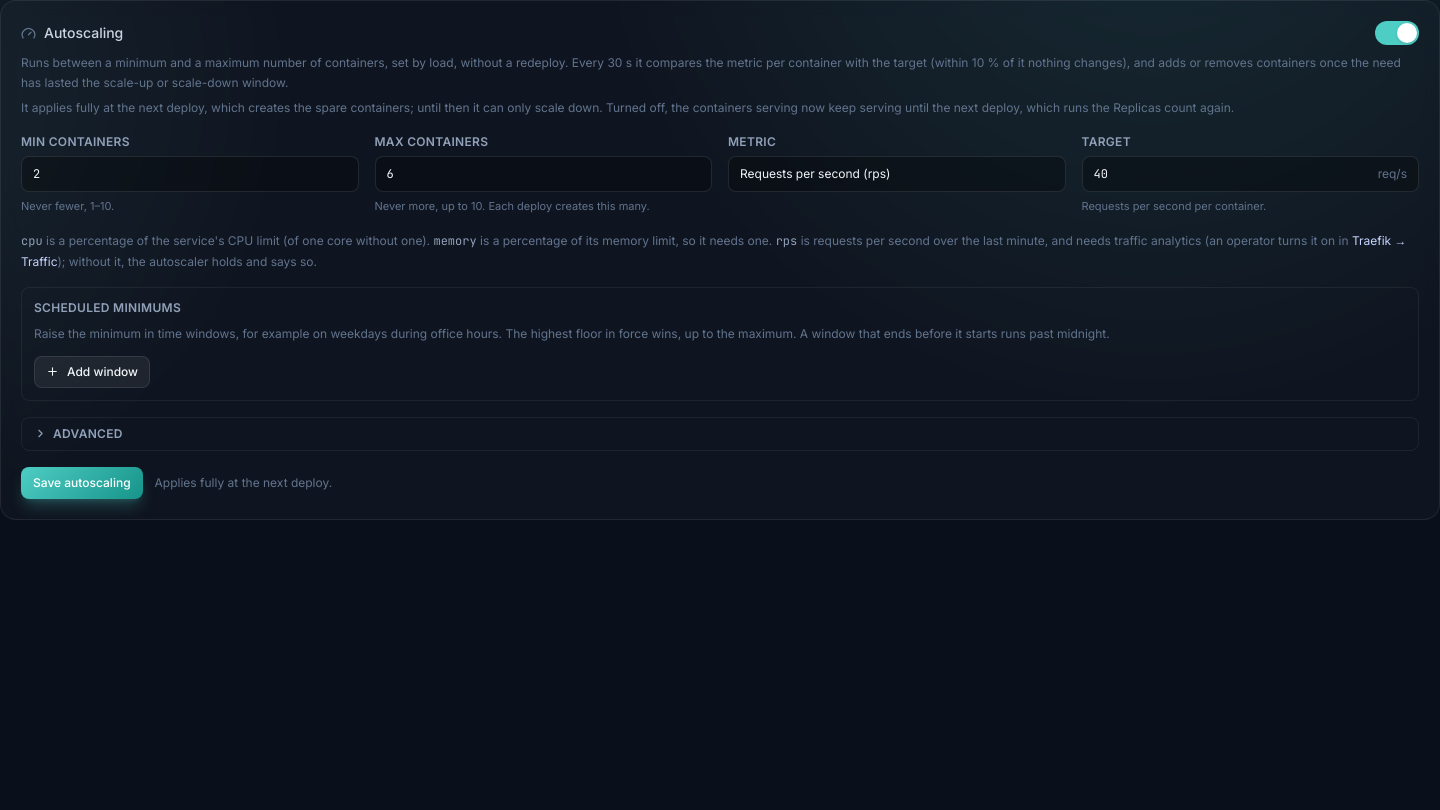
it: AutoscaleCard scheduled minimums (G5.6) › names an unknown time zone and refuses to save it
Click the button "Add window" at (92, 372), box [34,356,150,388]
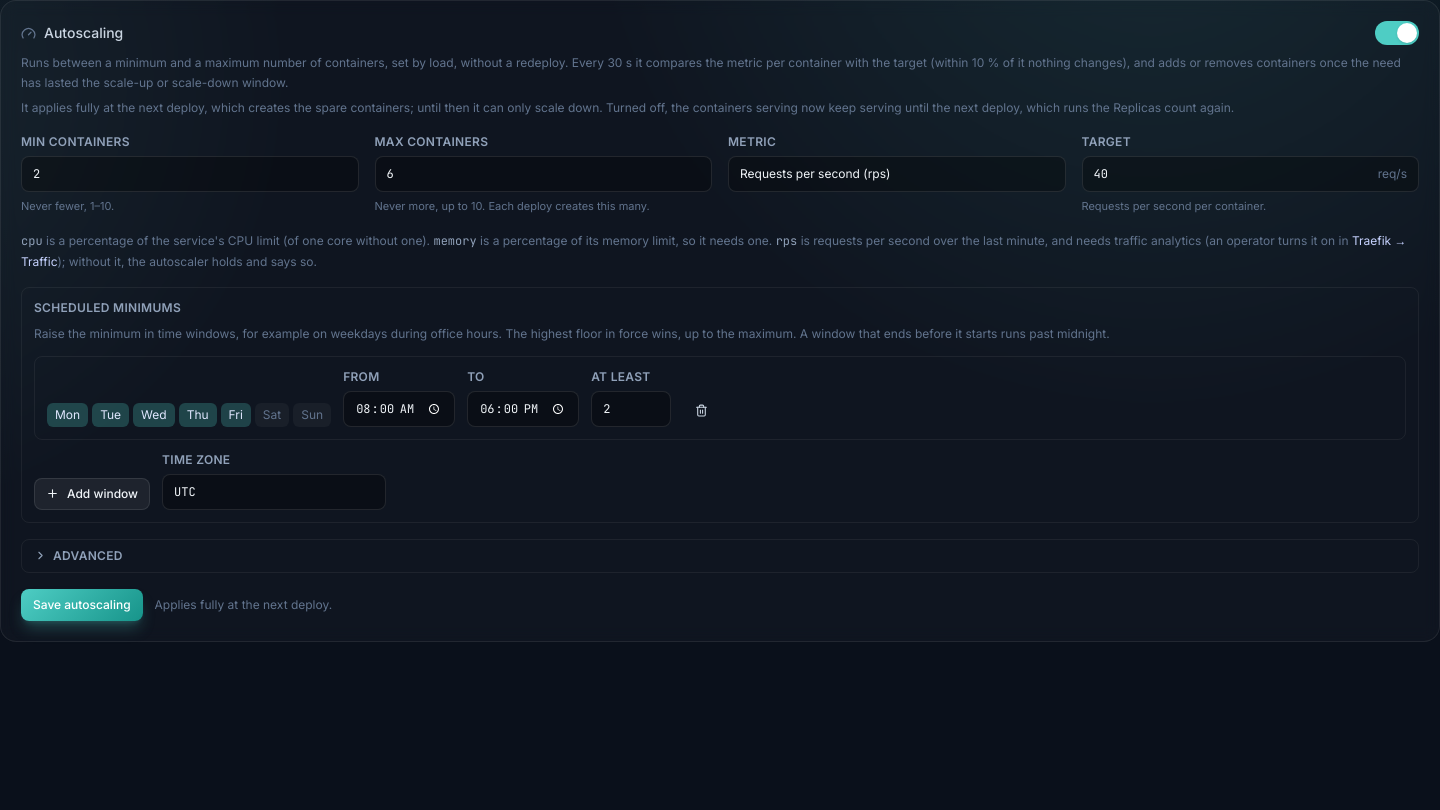
Replace the text in the field labelled "Time zone" with "Mars/Olympus" at (274, 492), box [162,474,386,510]
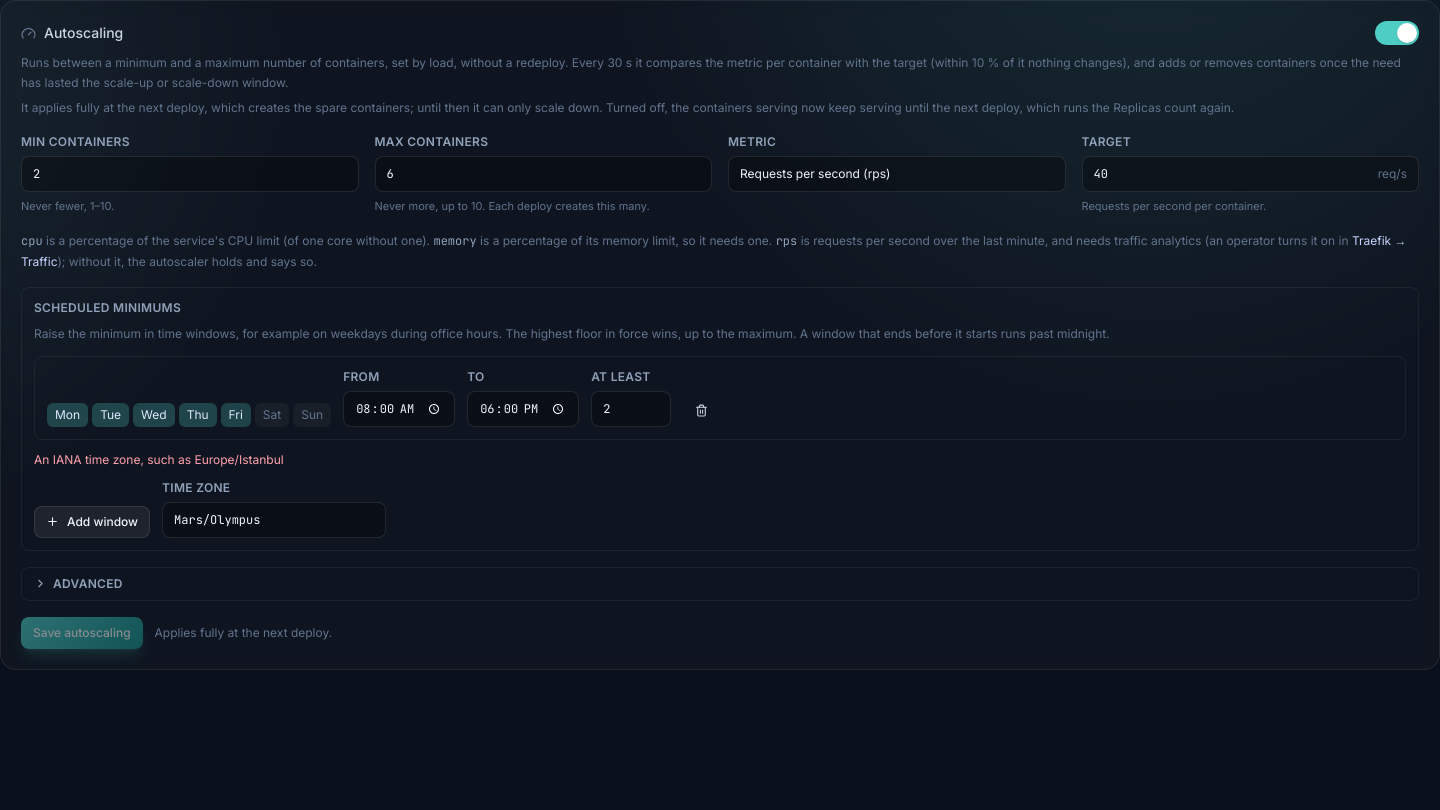
Check: the text "An IANA time zone, such as Europe/Istanbul" is shown, box [34,452,284,467]
Check: the button "Save autoscaling" is disabled, box [21,617,143,649]
